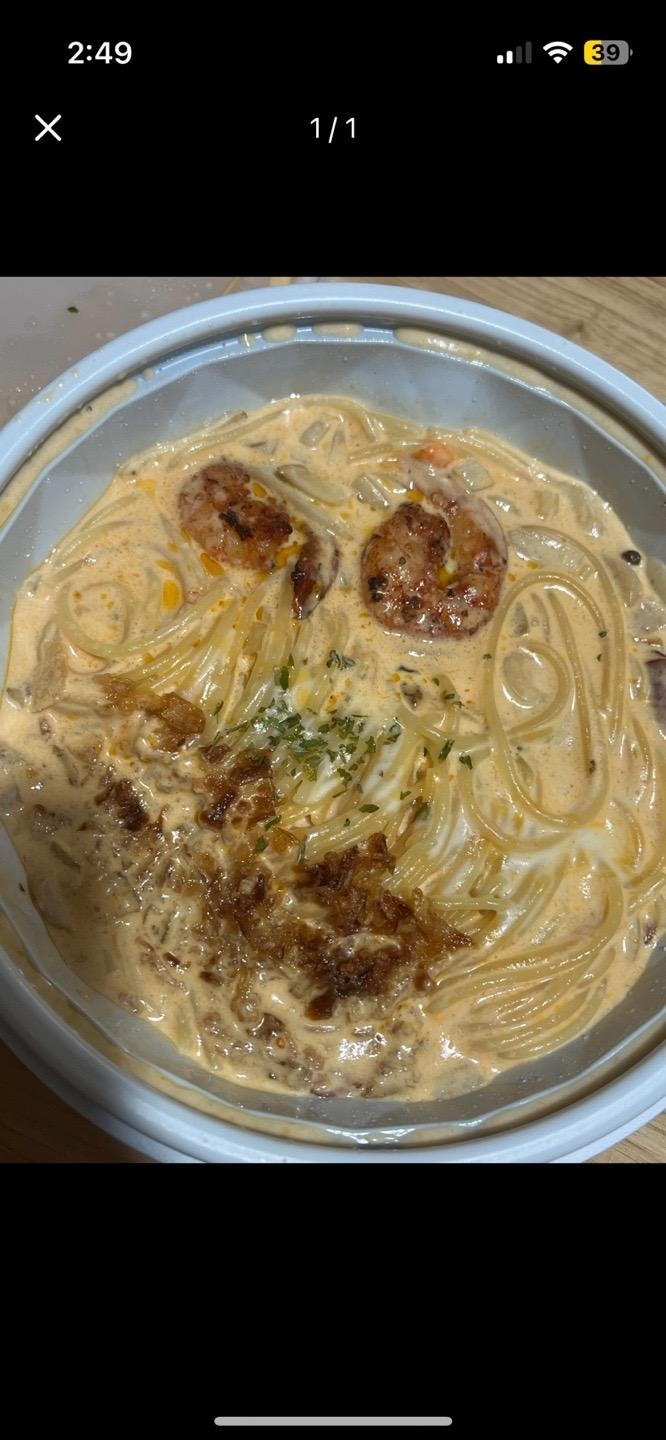Lunch Box: (0, 281, 665, 1162)
